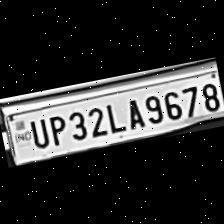2: (82, 101, 108, 138)
3: (63, 105, 88, 142)
6: (158, 86, 184, 122)
7: (177, 82, 201, 118)
8: (194, 77, 222, 114)
9: (139, 90, 165, 126)
A: (120, 94, 146, 130)
L: (101, 96, 126, 134)
P: (43, 110, 69, 146)
U: (24, 113, 50, 150)
